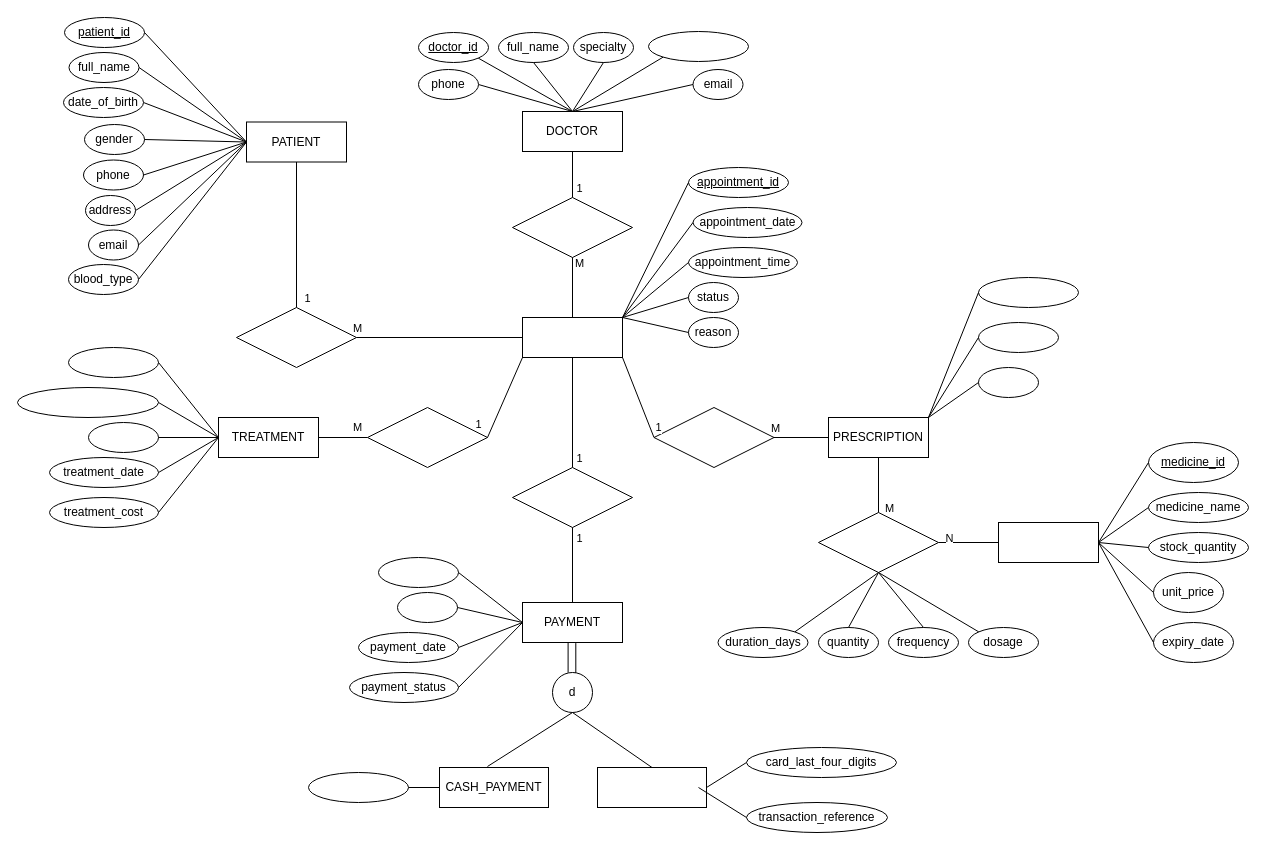
Some shapes in this 1266 by 850 pixel diagram are drawn without their labels. The shapes that lost their labels are listed below. From the top down, each one's centre as x and y in pixels, then its label:
point (698, 46): consultation_fee
point (572, 227): MANAGES
point (1028, 292): prescription_id
point (296, 337): BOOKS
point (572, 337): APPOINTMENT
point (1018, 337): issue_date
point (113, 362): treatment_id
point (1008, 382): notes
point (87, 402): treatment_description
point (123, 437): diagnosis
point (427, 437): INCLUDES
point (713, 437): GENERATES
point (572, 497): HAS
point (878, 542): CONTAINS
point (1048, 542): MEDICINE
point (418, 572): payment_id
point (427, 607): amount
point (358, 787): received_by
point (651, 787): CARD_PAYMENT
